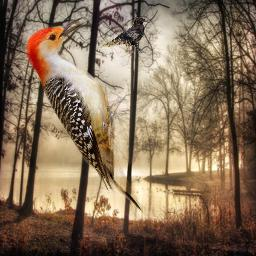Crow: (101, 17, 150, 54)
Woodpecker: (25, 16, 145, 216)
